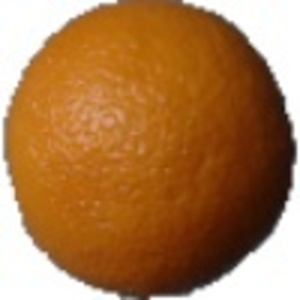laranja: (4, 1, 297, 297)
